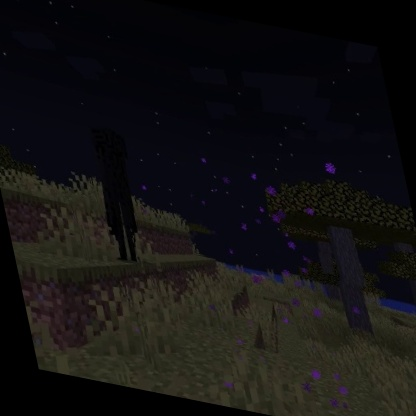enderman: (82, 121, 154, 268)
